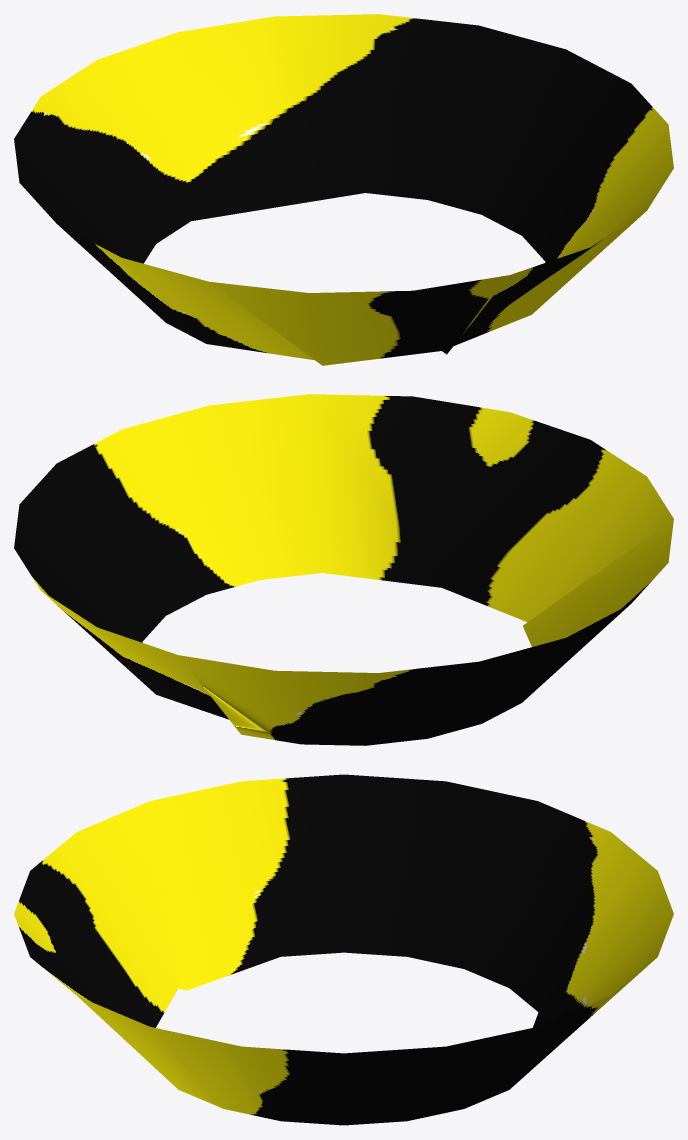
File: AttackEffect.fbx
The picture shows the model from 3 angles, top to bottom: view 1: azimuth 30°, elevation 25°; view 2: azimuth 150°, elevation 25°; view 3: azimuth 270°, elevation 25°; orthographic projection.
Parts seen in each view (by area): view 1: pCylinder1; view 2: pCylinder1; view 3: pCylinder1.
Part boxes in pixels (bbox=[...]): pCylinder1: bbox=[14, 14, 673, 365]; pCylinder1: bbox=[14, 394, 673, 745]; pCylinder1: bbox=[14, 774, 673, 1125].
Bounding box in the file's own units: 85.61 × 17.91 × 85.61.
Materials: 1 (1 with a texture image).
